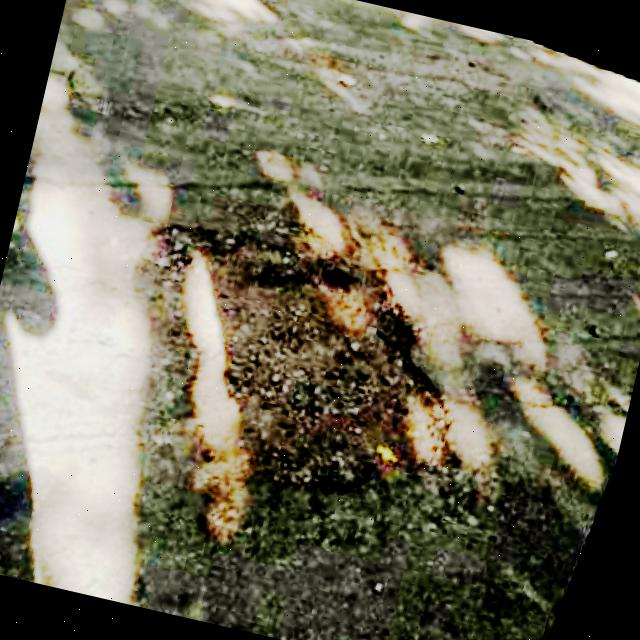pothole: (76, 190, 513, 560)
